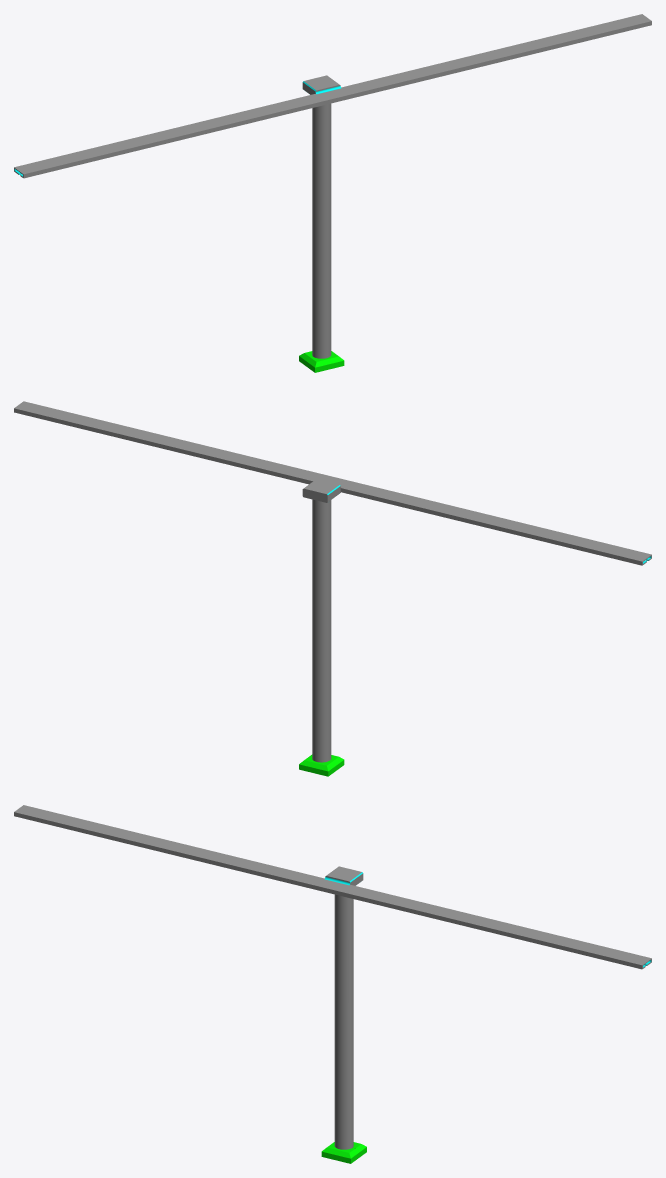
3 views of the same model, one above another, from view 1: azimuth 30°, elevation 25°; view 2: azimuth 150°, elevation 25°; view 3: azimuth 330°, elevation 25° (orthographic).
Parts seen in each view (by area): view 1: *SOL487; view 2: *SOL487; view 3: *SOL487.
Boxes of the visible parts, left/top/right/bottom form: *SOL487: left=14, top=14, right=651, bottom=372; *SOL487: left=14, top=401, right=651, bottom=776; *SOL487: left=14, top=805, right=651, bottom=1163.
Size of the model in its own units: 29.53 by 12.6 by 1.97.
